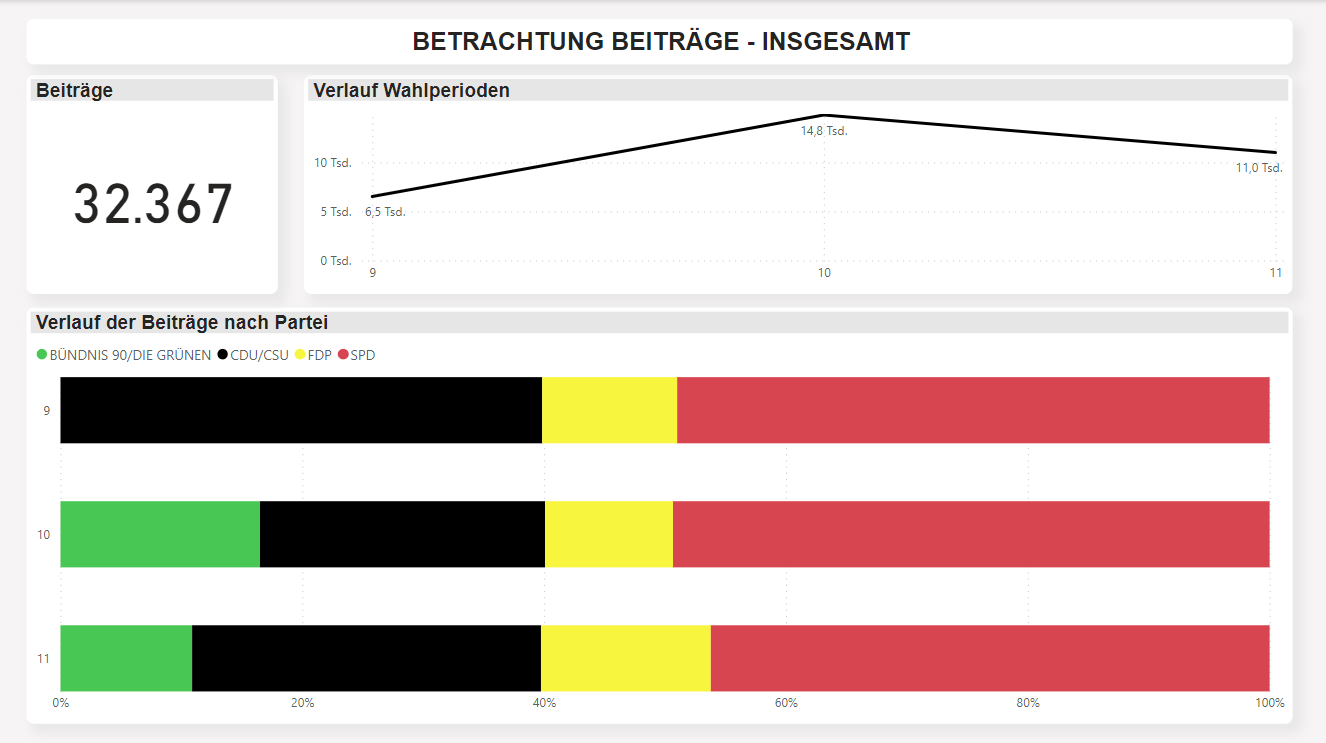

The page's visual inventory and layout, read from the dashboard file:
{"tool":"powerbi","page":{"name":"Beiträge","canvas":[1280,720],"ordinal":4},"visuals":[{"type":"lineChart","title":"Verlauf Wahlperioden","fields":{"Y":["Measure_Table.Beiträge"],"Category":["RB.WAHLPERIODE","RB.NR"]},"box":[294.3,72.4,954,211.1],"z":0},{"type":"hundredPercentStackedBarChart","title":"Verlauf der Beiträge nach Partei","fields":{"Y":["Measure_Table.Beiträge"],"Category":["RB.WAHLPERIODE"],"Series":["RB.PARTEI_KURZ"]},"box":[26.5,296.7,1221.7,401.6],"z":1000},{"type":"card","title":"Beiträge","fields":{"Values":["Measure_Table.Beiträge"]},"box":[26.5,72.4,242.4,211.1],"z":2000},{"type":"textbox","box":[26.6,17.5,1222,43.8],"z":3000}]}

Visuals, with their boxes in screenshot pixels (x1, y1, x2, y2), scaled from the page's 1280x720 canvas onto the 1326x743 screenshot:
"Verlauf Wahlperioden" lineChart: <region>305, 75, 1293, 293</region>
"Verlauf der Beiträge nach Partei" hundredPercentStackedBarChart: <region>27, 306, 1293, 721</region>
"Beiträge" card: <region>27, 75, 279, 293</region>
textbox: <region>28, 18, 1293, 63</region>
